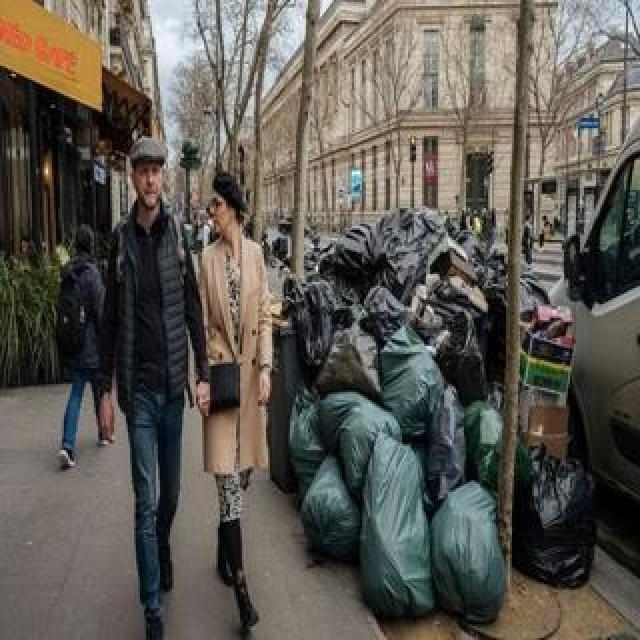Trashbag: (521, 452, 597, 590), (424, 309, 491, 397), (377, 206, 451, 285), (427, 386, 477, 500), (286, 279, 342, 370), (319, 221, 385, 289), (371, 284, 413, 338)
